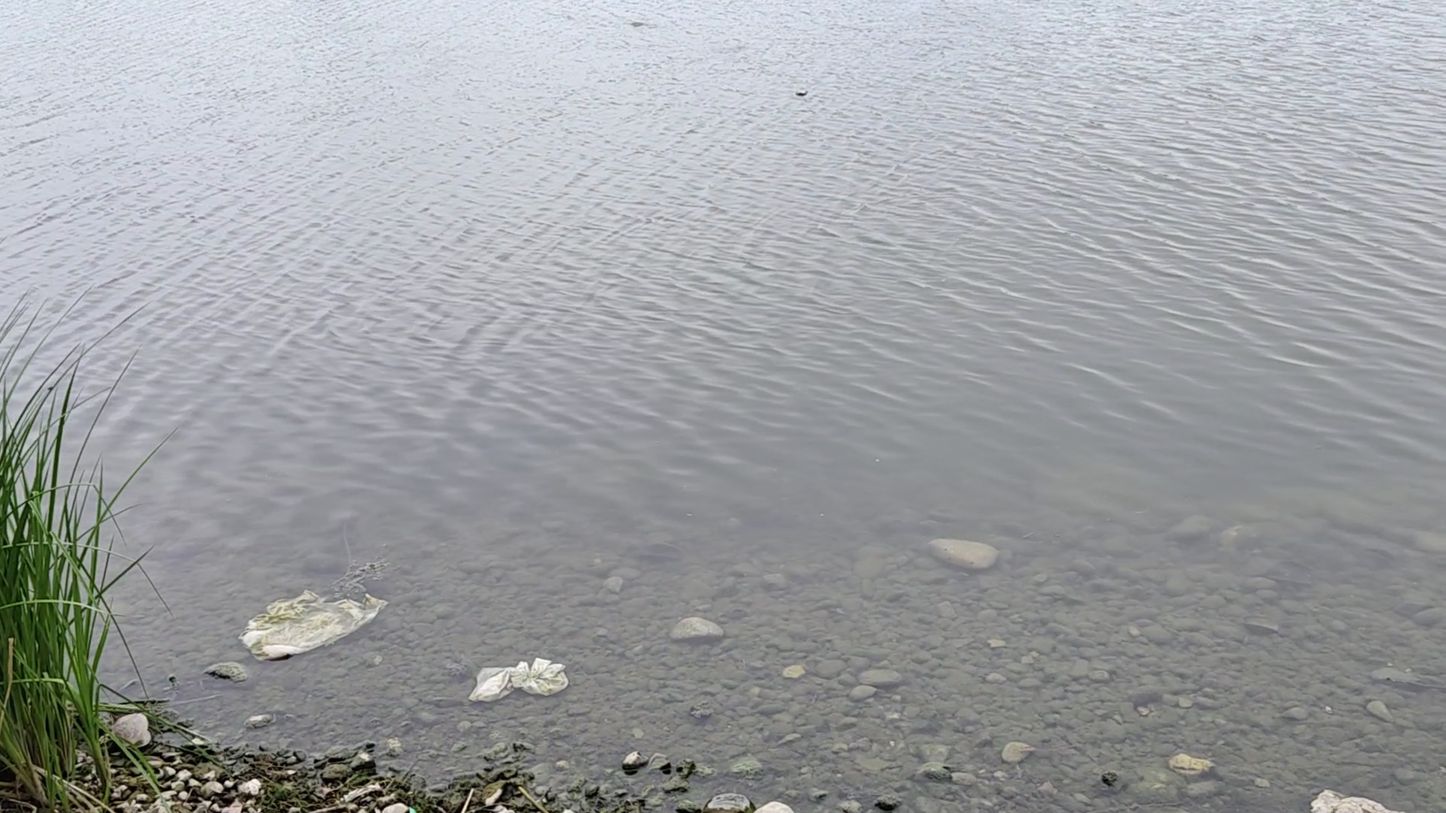floater: (234, 591, 393, 661), (472, 653, 569, 701)
